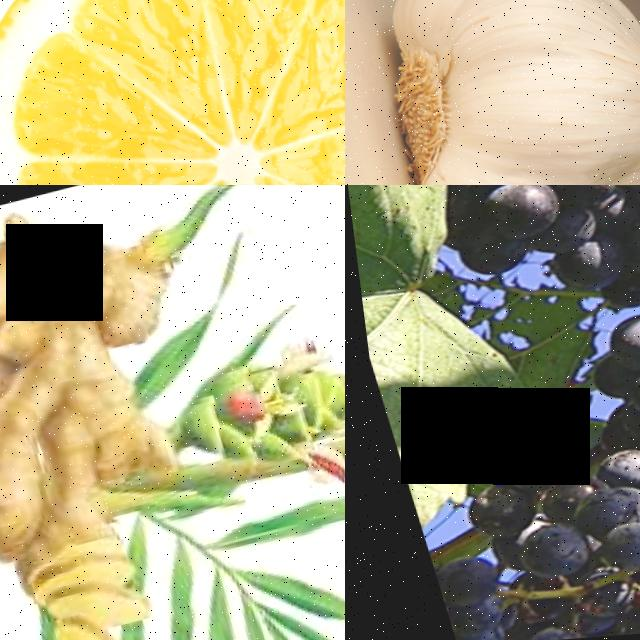garlic: (398, 0, 640, 185)
ginger: (0, 260, 176, 533)
grapes: (388, 378, 640, 640), (440, 185, 640, 333)
lemon: (0, 0, 345, 185)
